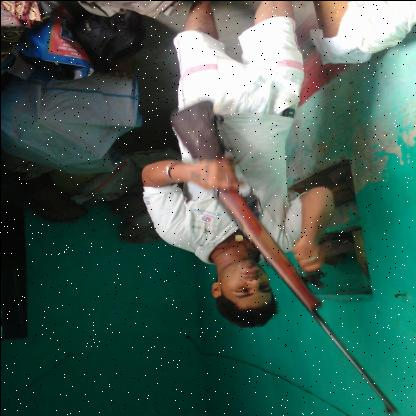rifle: (164, 96, 400, 416)
